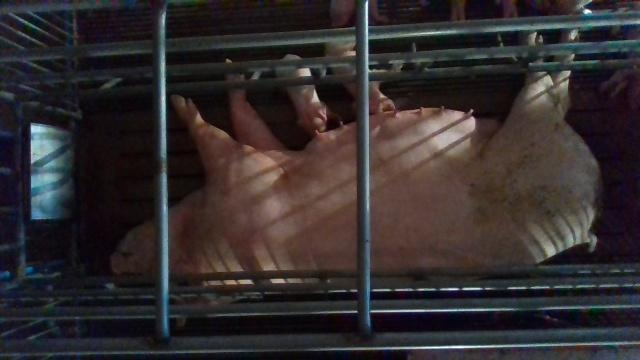piglet: (326, 43, 397, 113), (276, 55, 328, 135), (606, 2, 639, 112), (329, 0, 387, 26)
sow-sleep-lactate: (108, 29, 600, 305)
